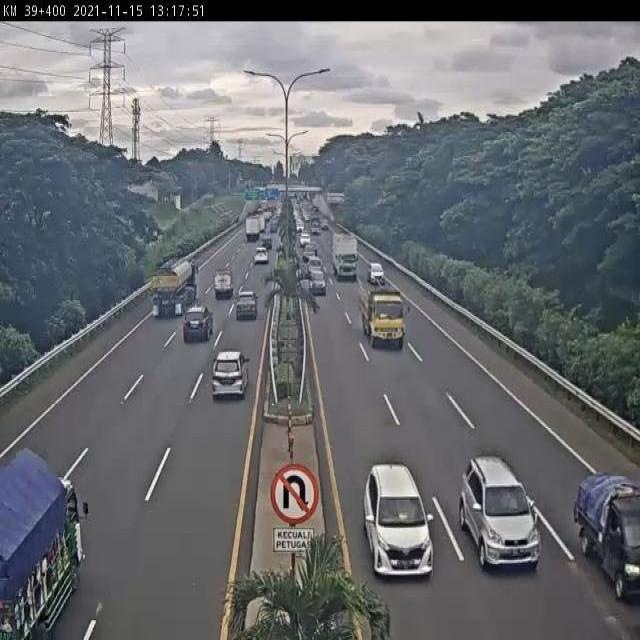car: (457, 451, 542, 566), (361, 463, 436, 580), (211, 348, 250, 399), (183, 304, 214, 344), (234, 289, 260, 323), (306, 266, 327, 294), (366, 260, 386, 287), (252, 255, 266, 272)
truck-m-: (359, 284, 407, 349), (331, 228, 357, 279)
truck-s-: (211, 266, 235, 302)
truck-xl-: (151, 257, 197, 320)
